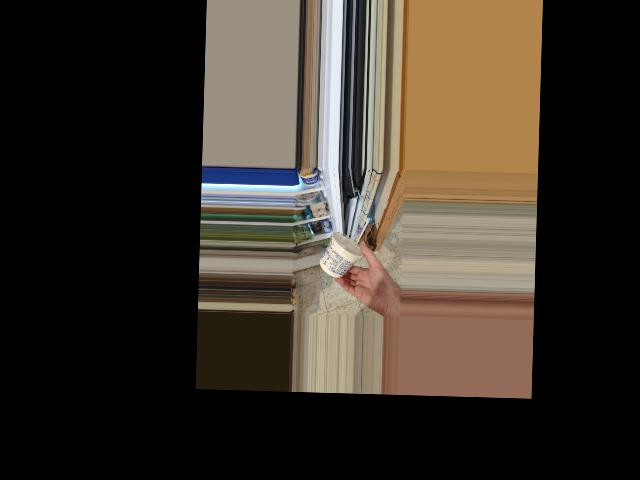cotage: (324, 238, 367, 277)
